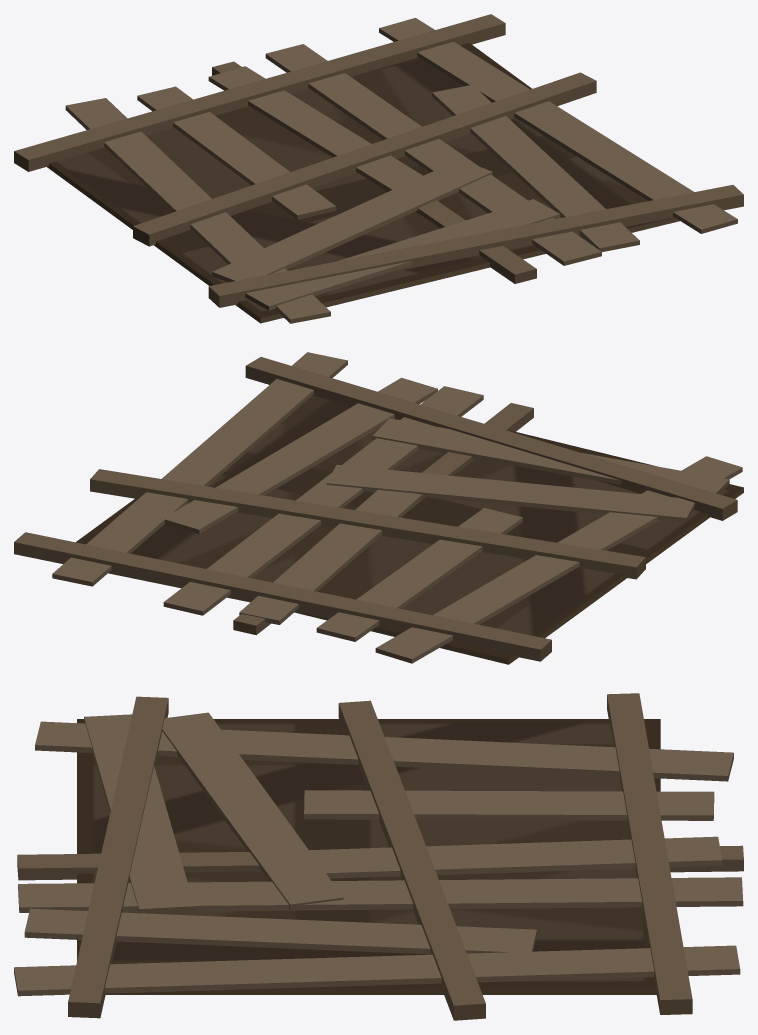
Rendered from SD_Env_Goblin_Platform_Large_01.fbx.
3 views of the same model, one above another, from view 1: azimuth 30°, elevation 25°; view 2: azimuth 150°, elevation 25°; view 3: azimuth 270°, elevation 25° (orthographic). The views are drawn at different scales.
Parts seen in each view (by area): view 1: SD_Env_Goblin_Platform_Large_01; view 2: SD_Env_Goblin_Platform_Large_01; view 3: SD_Env_Goblin_Platform_Large_01.
Boxes of the visible parts, x1,y1,x2,y2 form: SD_Env_Goblin_Platform_Large_01: (14, 14, 743, 323); SD_Env_Goblin_Platform_Large_01: (14, 352, 743, 664); SD_Env_Goblin_Platform_Large_01: (14, 693, 743, 1020).
Size of the model in its own units: 11 by 0.2972 by 10.85.
